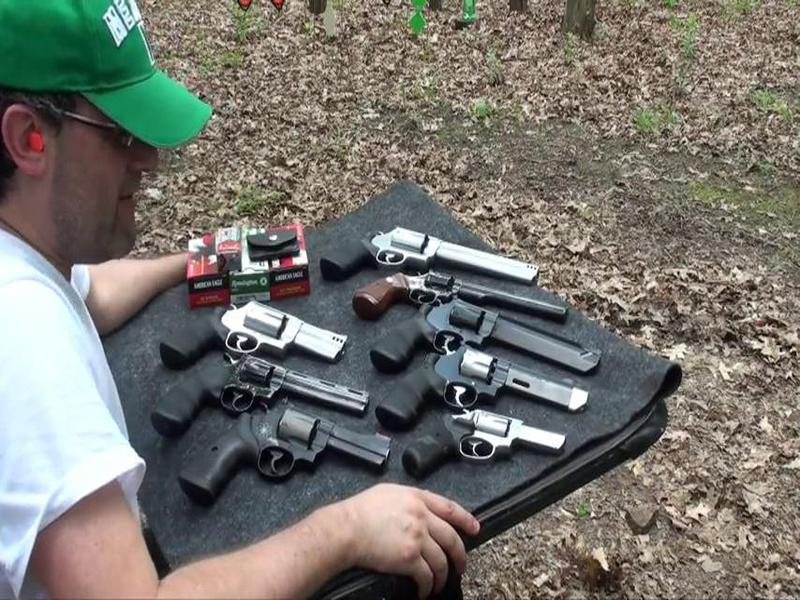Revolver: (355, 293, 618, 384)
